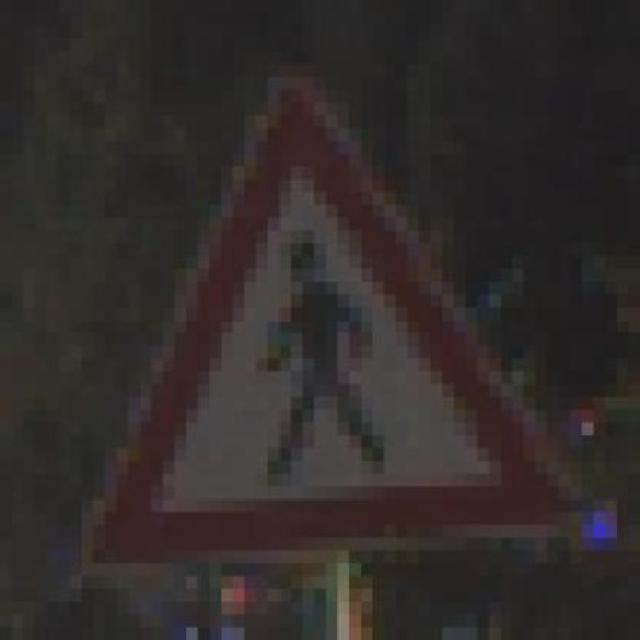Pedestrian Crossing: (70, 52, 582, 576)
